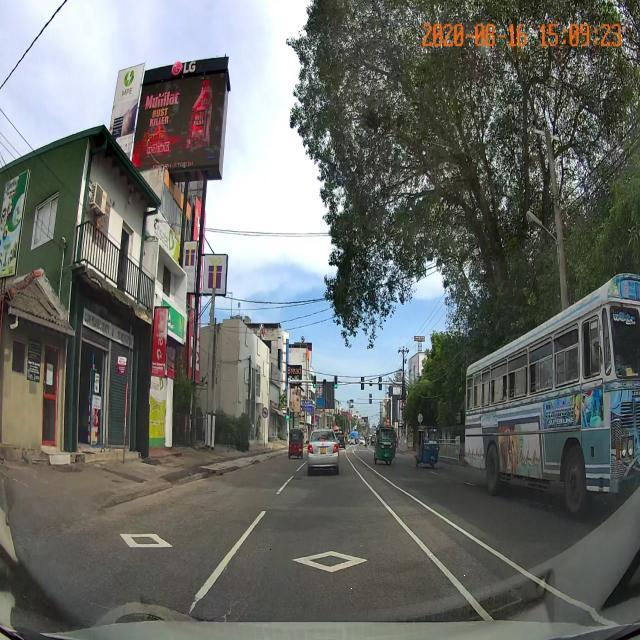diamond: (200, 527, 471, 589)
